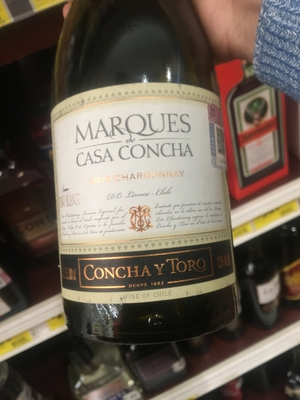marques de casa concha chardonnay: (45, 22, 247, 341)
